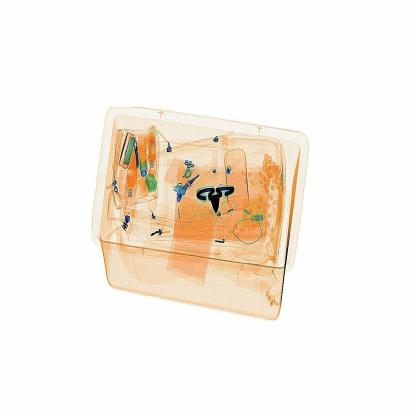gun: (190, 164, 254, 228)
